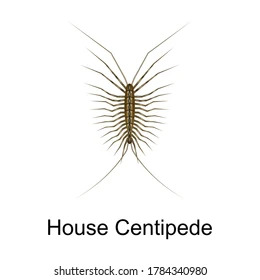centipede: (68, 23, 194, 209)
